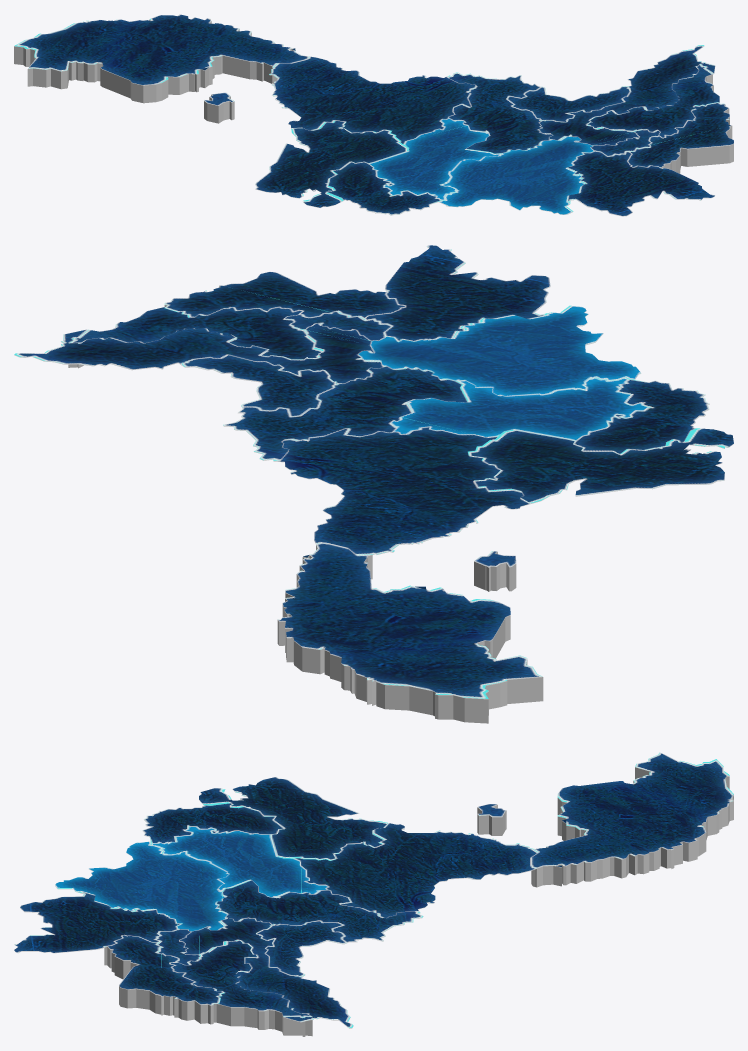
The model's file is hlj.glb.
3 renders of one model, top to bottom at view 1: azimuth 30°, elevation 25°; view 2: azimuth 150°, elevation 25°; view 3: azimuth 270°, elevation 25°, orthographic. The views are drawn at different scales.
Parts seen in each view (by area): view 1: 黑龙江省, Curve.021, Curve.017, Curve.020, Curve.016, Curve.002, Curve.023, Curve.015, Curve.009, Curve.012, Curve.019, Curve.022 (+1 smaller); view 2: 黑龙江省, Curve.021, Curve.017, Curve.020, Curve.016, Curve.002, Curve.023, Curve.015, Curve.012, Curve.009, Curve.019, Curve.022 (+1 smaller); view 3: 黑龙江省, Curve.021, Curve.017, Curve.020, Curve.016, Curve.009, Curve.002, Curve.023, Curve.012, Curve.015, Curve.019, Curve.022 (+1 smaller).
Boxes of the visible parts, box(x1,y1,x2,y2) form: 黑龙江省: box(14, 14, 308, 123); Curve.021: box(269, 56, 476, 145); Curve.017: box(432, 135, 593, 214); Curve.020: box(255, 120, 408, 207); Curve.016: box(566, 151, 715, 216); Curve.002: box(369, 118, 501, 200); Curve.023: box(448, 72, 553, 153); Curve.015: box(538, 45, 715, 145); Curve.009: box(627, 102, 733, 173); Curve.012: box(587, 64, 719, 137); Curve.019: box(327, 161, 440, 215); Curve.022: box(507, 86, 630, 122); 黑龙江省: box(277, 543, 543, 723); Curve.021: box(273, 427, 544, 554); Curve.017: box(358, 305, 642, 396); Curve.020: box(468, 428, 733, 502); Curve.016: box(364, 245, 550, 342); Curve.002: box(390, 377, 651, 440); Curve.023: box(223, 366, 467, 460); Curve.015: box(14, 323, 385, 384); Curve.012: box(68, 307, 323, 368); Curve.009: box(164, 272, 405, 319); Curve.019: box(573, 379, 709, 454); Curve.022: box(182, 355, 338, 416); 黑龙江省: box(477, 752, 733, 887); Curve.021: box(291, 821, 538, 917); Curve.017: box(55, 837, 229, 931); Curve.020: box(199, 777, 386, 860); Curve.016: box(14, 892, 182, 953); Curve.009: box(104, 935, 224, 1024); Curve.002: box(151, 826, 328, 897); Curve.023: box(216, 880, 423, 942); Curve.012: box(170, 940, 312, 1036); Curve.015: box(180, 917, 353, 1027); Curve.019: box(142, 803, 284, 843); Curve.022: box(256, 921, 347, 976).
Size of the model in its own units: 0.1264 by 0.0041 by 0.1394.
Materials: 14 (13 with a texture image).
